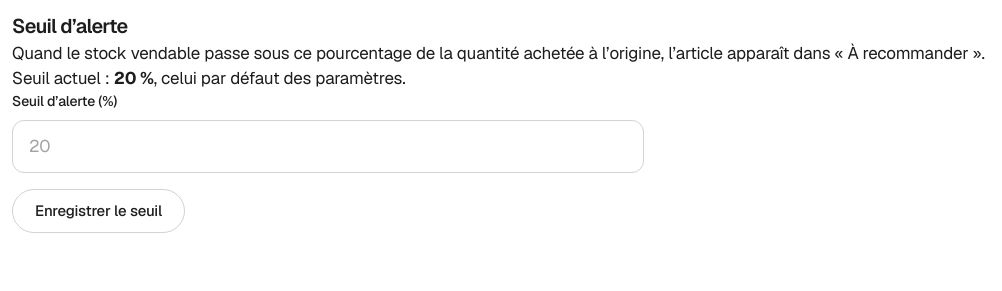
Scenario: SeuilAlerteProduit › fixe un seuil propre à l article et prévient la page
This screenshot has width=1002, height=291.
Expected: the text "Seuil actuel : 20 %, celui par défaut des paramètres." is shown, [12, 67, 406, 89]
Type "30" into the number field labelled "Seuil d’alerte (%)" at (328, 146), box [12, 120, 644, 173]
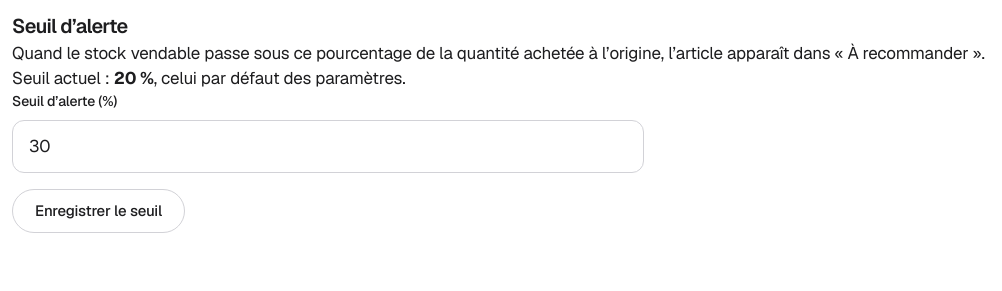
Click the button "Enregistrer le seuil" at (98, 211), box [12, 189, 185, 233]
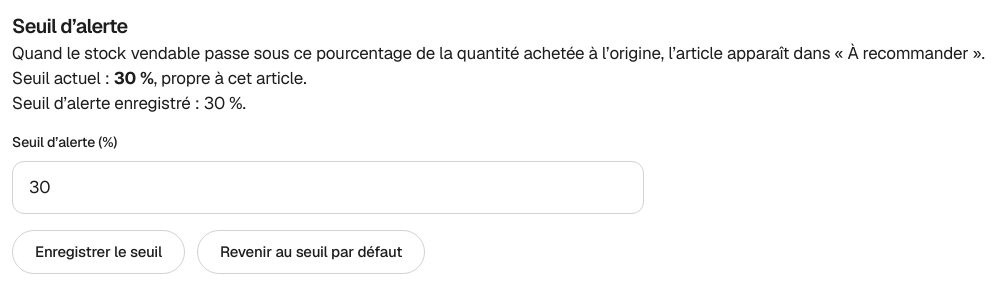
Expected: the message reads "Seuil d’alerte enregistré : 30 %.", [12, 92, 246, 114]
Expected: the text "Seuil actuel : 30 %, propre à cet article." is shown, [12, 67, 306, 89]
